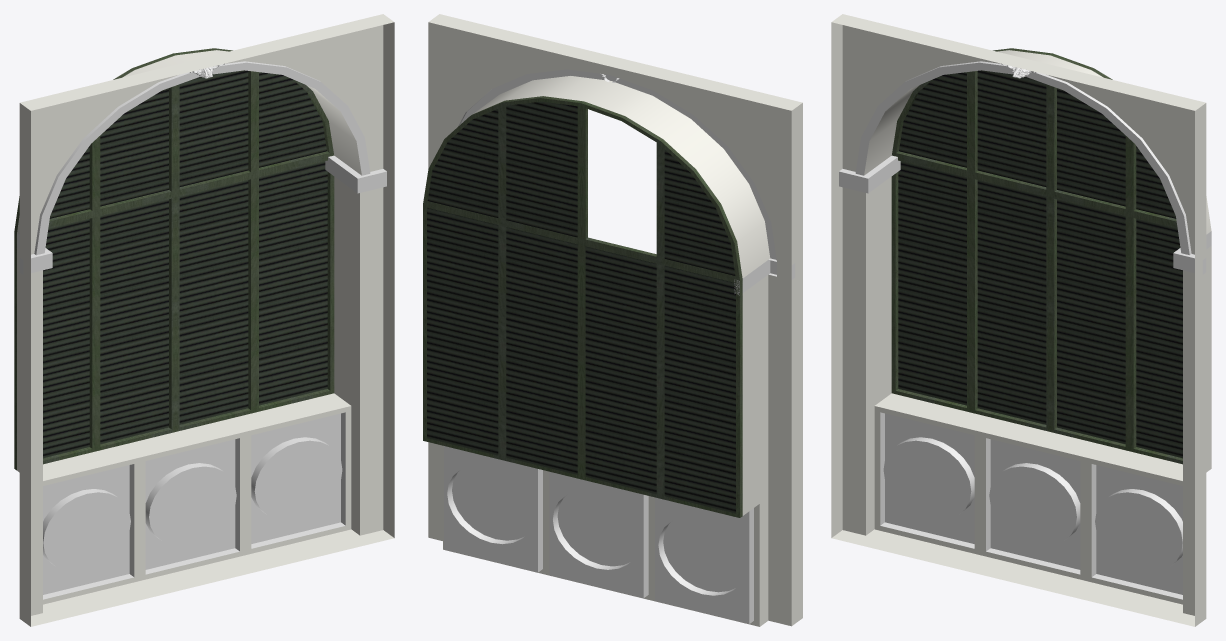
Rendered from window_floor2_side4.glb.
3 renders of one model, left to right at view 1: azimuth 30°, elevation 25°; view 2: azimuth 150°, elevation 25°; view 3: azimuth 330°, elevation 25°, orthographic.
Visible parts, largest first — view 1: 3DGeom-1, 3DGeom-10.001, 3DGeom-2, 3DGeom-10, 3DGeom-11.001, 3DGeom-11; view 2: 3DGeom-1, 3DGeom-10.001, 3DGeom-10, 3DGeom-2, 3DGeom-11, 3DGeom-11.001; view 3: 3DGeom-1, 3DGeom-10, 3DGeom-2, 3DGeom-10.001, 3DGeom-11, 3DGeom-11.001.
Part boxes in pixels (x1,y1,x2,y2): 3DGeom-1: [17, 14, 394, 626]; 3DGeom-10.001: [179, 70, 327, 424]; 3DGeom-2: [17, 61, 386, 599]; 3DGeom-10: [43, 88, 168, 458]; 3DGeom-11.001: [173, 48, 334, 431]; 3DGeom-11: [14, 53, 175, 470]; 3DGeom-1: [428, 14, 802, 626]; 3DGeom-10.001: [427, 101, 577, 474]; 3DGeom-10: [585, 149, 735, 513]; 3DGeom-2: [444, 69, 795, 623]; 3DGeom-11: [581, 101, 742, 517]; 3DGeom-11.001: [423, 96, 583, 479]; 3DGeom-1: [831, 14, 1211, 626]; 3DGeom-10: [898, 70, 1046, 424]; 3DGeom-2: [839, 61, 1211, 599]; 3DGeom-10.001: [1057, 88, 1182, 458]; 3DGeom-11: [891, 48, 1052, 431]; 3DGeom-11.001: [1050, 53, 1182, 464].
Bounding box in the file's own units: 2.42 × 3.28 × 0.4567.
Materials: 4 (2 with a texture image).
